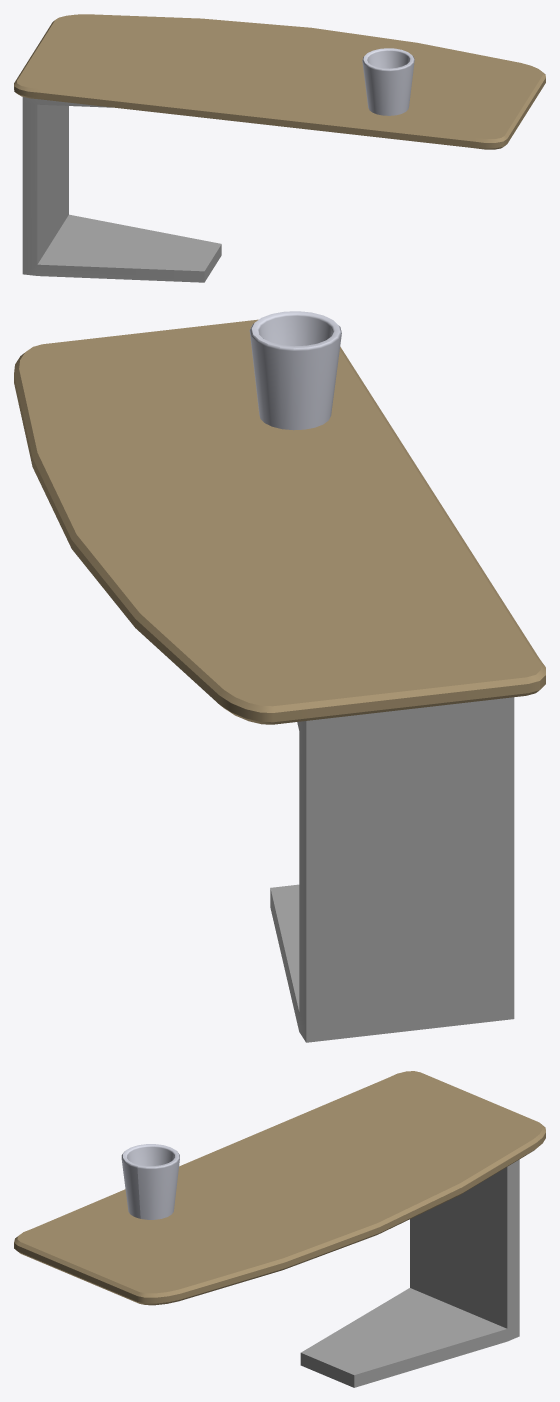
Rendered from Table.fbx.
The picture shows the model from 3 angles, top to bottom: view 1: azimuth 30°, elevation 25°; view 2: azimuth 150°, elevation 25°; view 3: azimuth 270°, elevation 25°; orthographic projection. The views are drawn at different scales.
Visible parts, largest first — view 1: table; view 2: table; view 3: table.
Boxes of the visible parts, x1=… form: table: x1=14, y1=14, x2=545, y2=282; table: x1=14, y1=311, x2=545, y2=1042; table: x1=14, y1=1071, x2=545, y2=1387.
Size of the model in its own units: 189 by 108 by 189.
